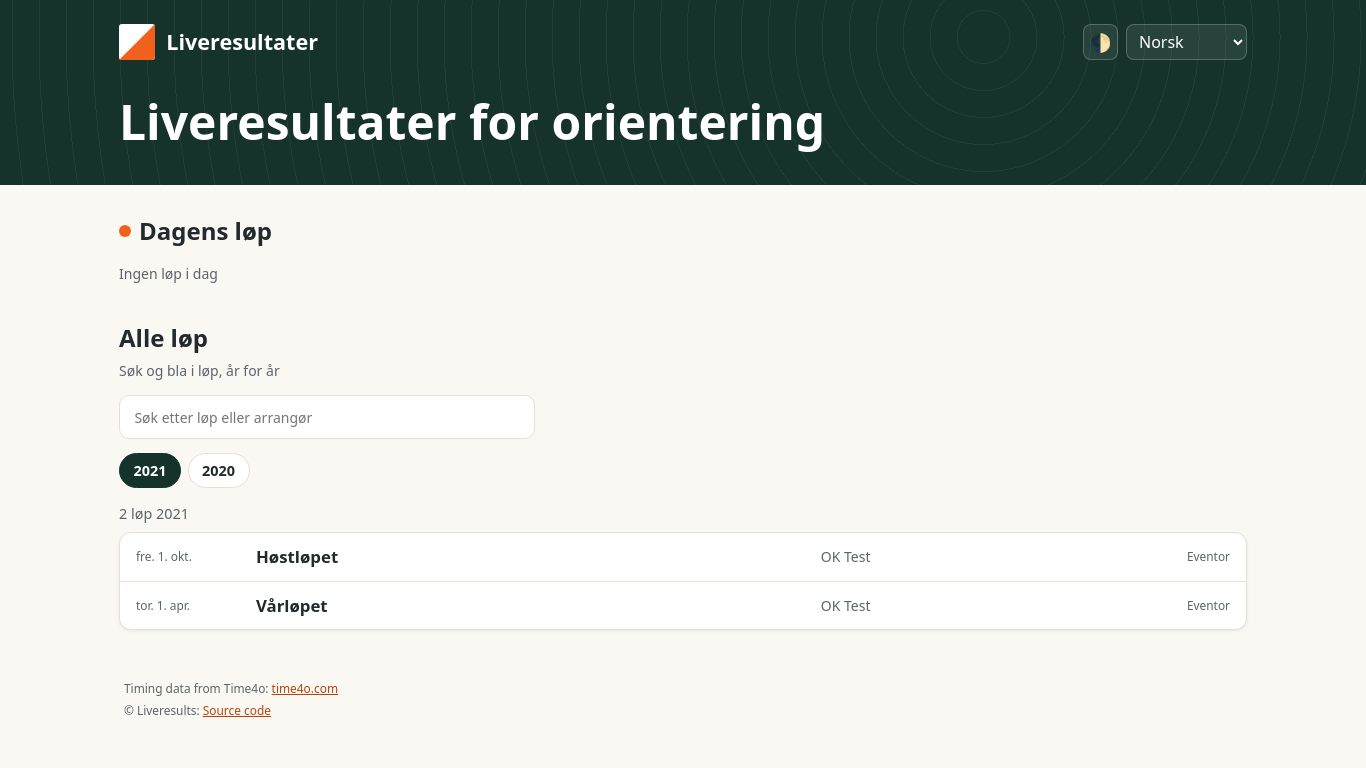
Test: App › finds races by year or search on the front page
Expected: the text "2 løp 2021" is shown, [119,504,189,522]
Click the button "2020" at [219, 471], box [188,453,250,488]
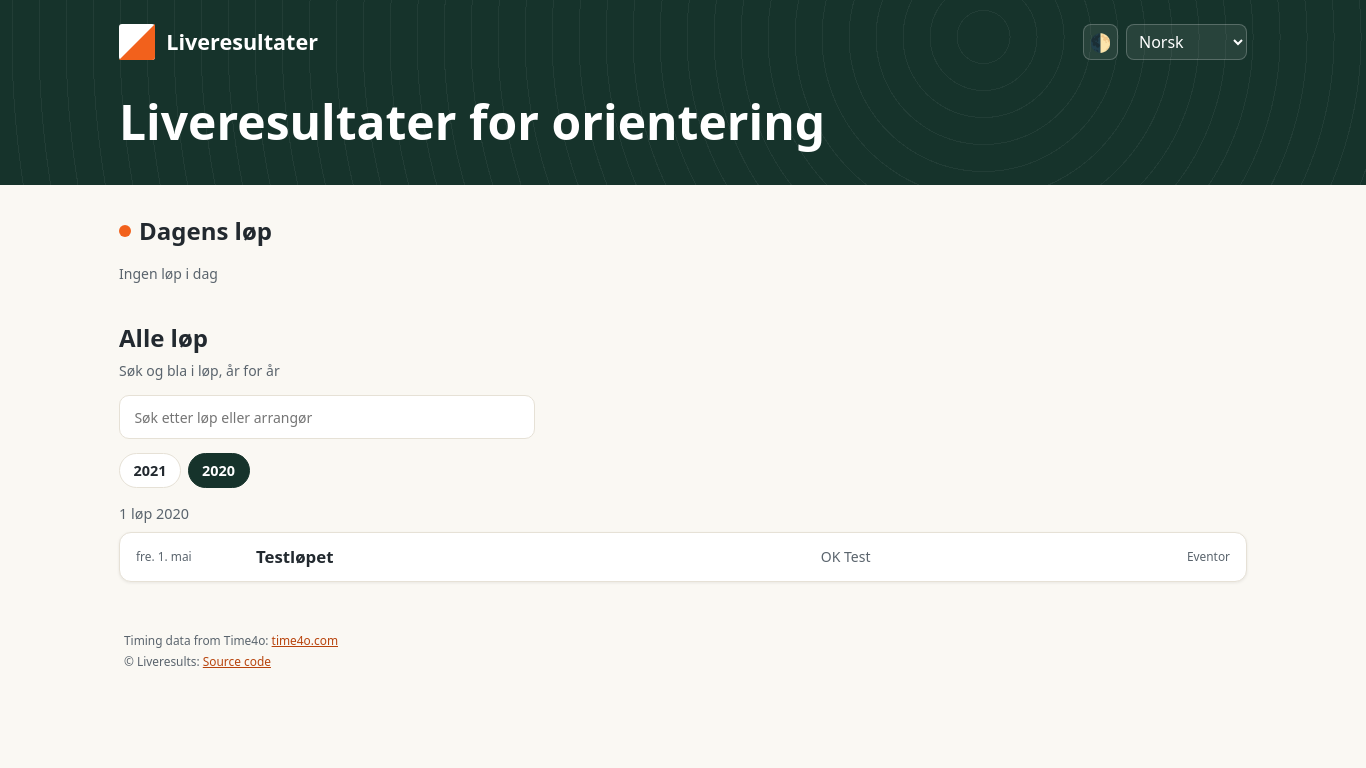
Type "ok test" into the search field at [327, 417], box [119,395,535,439]
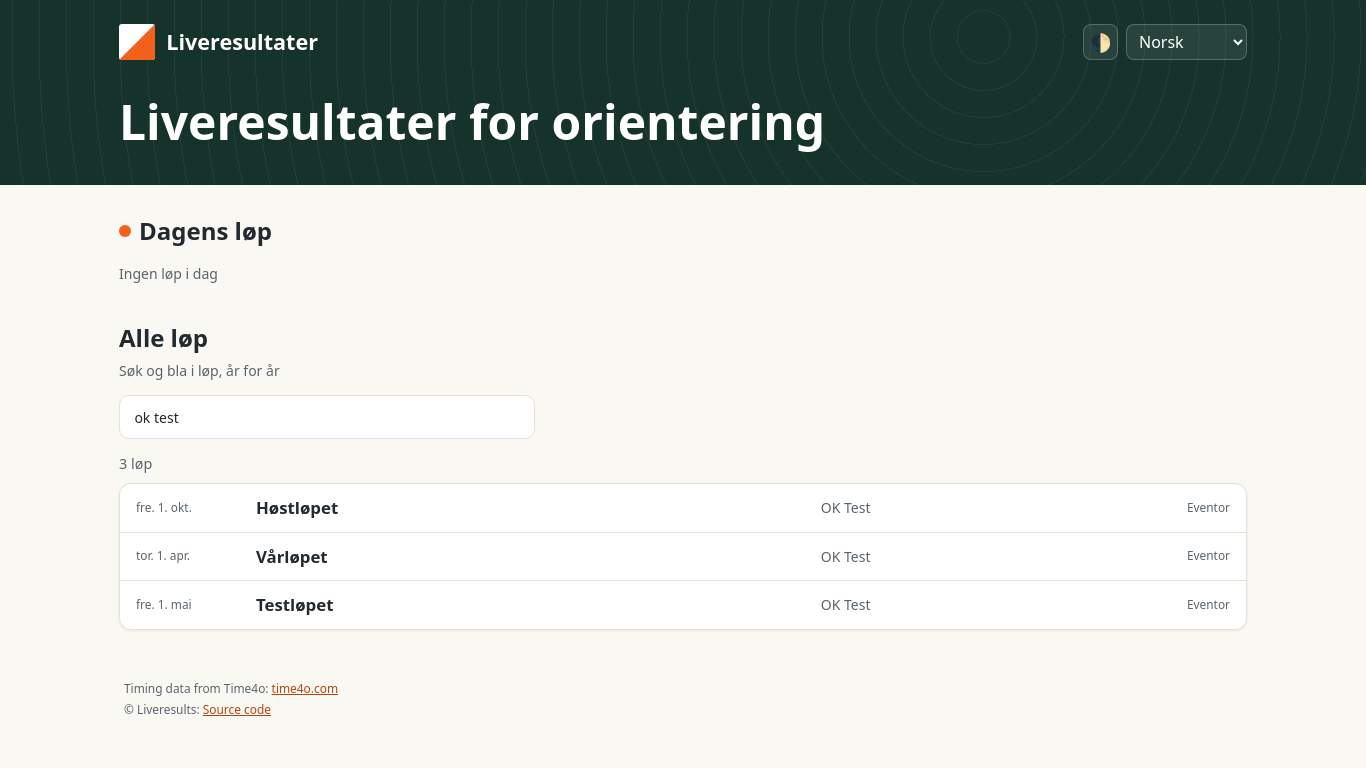
Replace the text in the search field with "zzzz" at [327, 417], box [119,395,535,439]
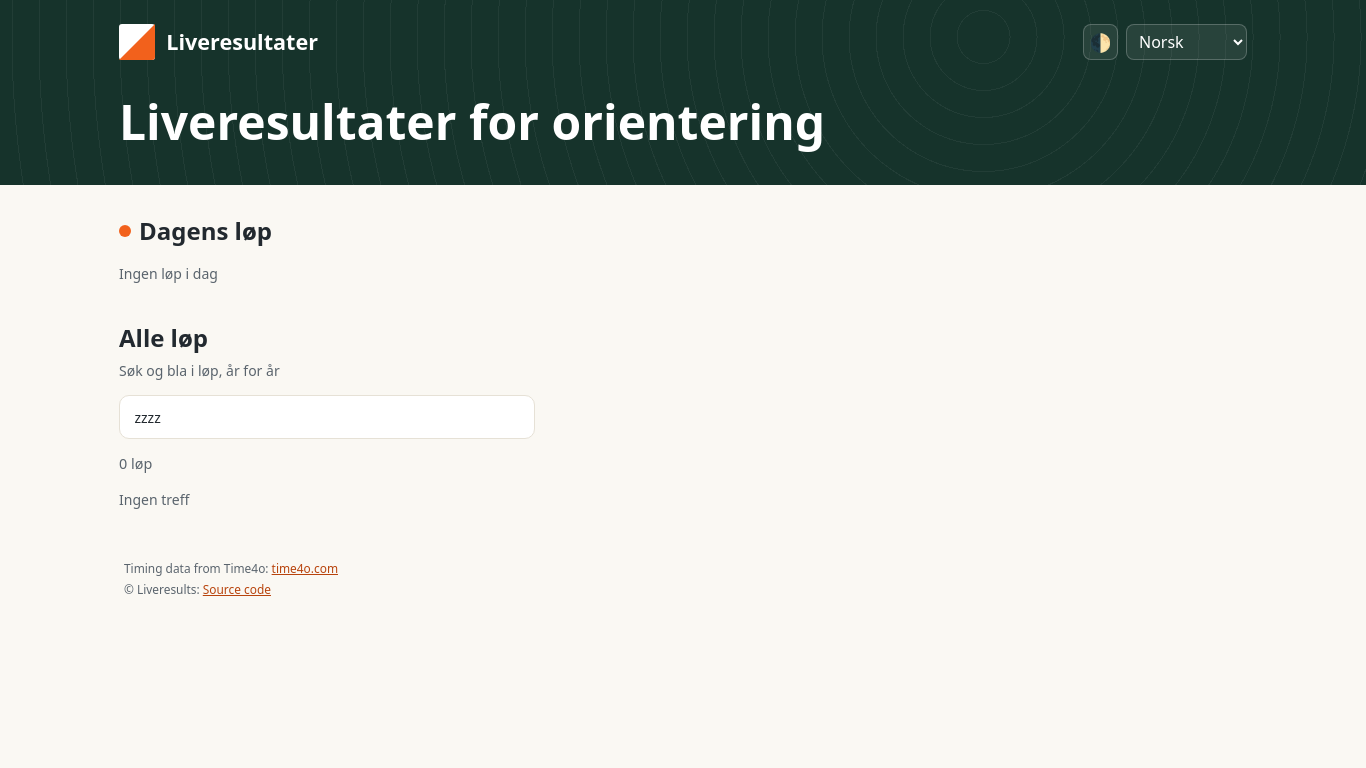
Expected: the text "Ingen treff" is shown, [119,490,189,509]
